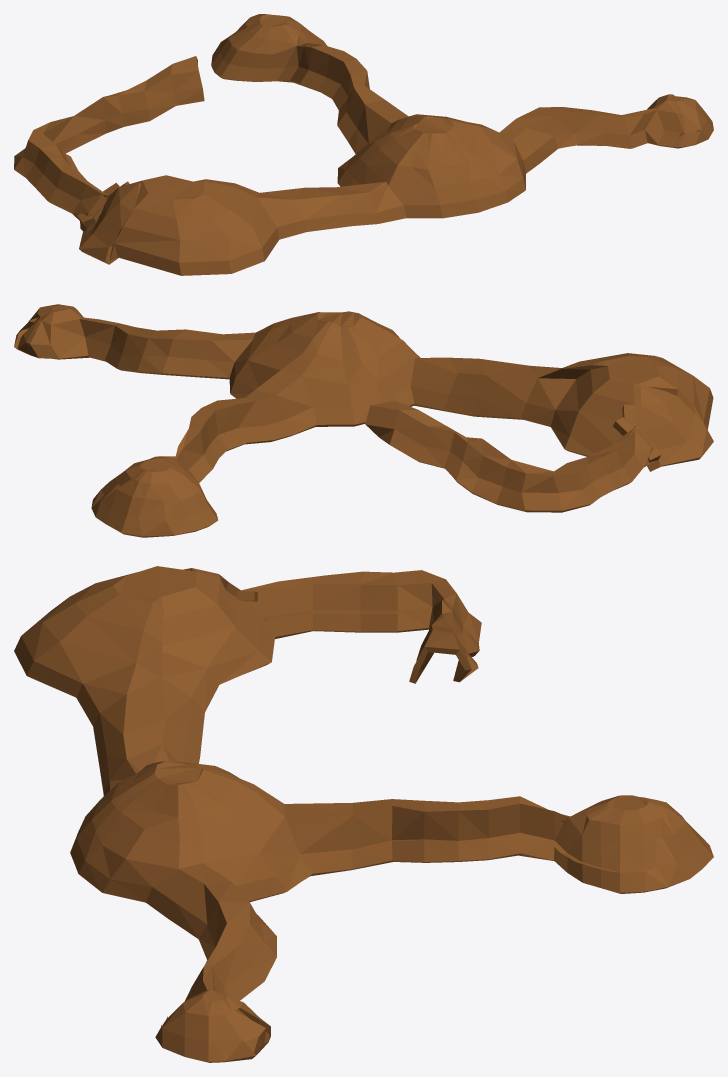
3 renders of one model, top to bottom at view 1: azimuth 30°, elevation 25°; view 2: azimuth 150°, elevation 25°; view 3: azimuth 270°, elevation 25°, orthographic. The views are drawn at different scales.
Visible parts, largest first — view 1: Plane.012; view 2: Plane.012; view 3: Plane.012.
Part boxes in pixels (<box>): Plane.012: <box>14,14,713,275</box>; Plane.012: <box>14,304,713,537</box>; Plane.012: <box>14,566,713,1062</box>.
Bounding box in the file's own units: 9777 × 1536 × 6912.
